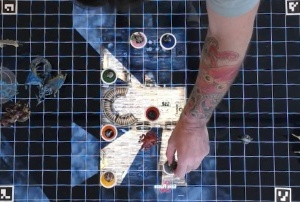blue: (157, 31, 177, 51)
green: (101, 67, 118, 85)
orange: (100, 123, 120, 143)
pink: (129, 31, 150, 48)
red: (141, 104, 160, 123)
violet: (162, 158, 185, 176)
yellow: (100, 168, 118, 189)
